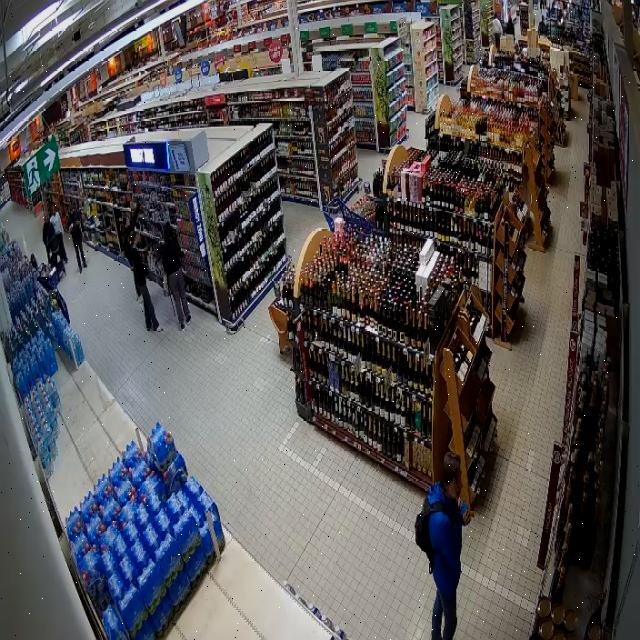bags: (415, 498, 445, 573)
hands: (462, 509, 473, 525)
person: (428, 453, 471, 639), (128, 232, 161, 332), (161, 223, 190, 330), (70, 213, 87, 272), (50, 211, 68, 263)
